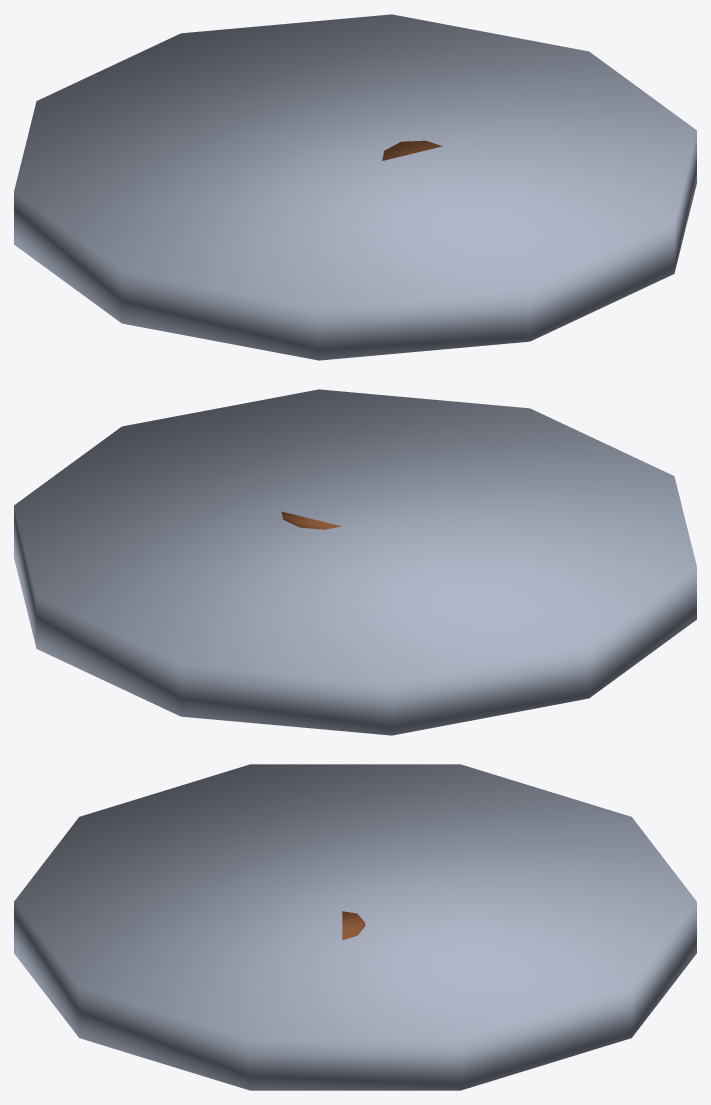
Rendered from copper_coin.glb.
3 renders of one model, top to bottom at view 1: azimuth 30°, elevation 25°; view 2: azimuth 150°, elevation 25°; view 3: azimuth 270°, elevation 25°, orthographic. The views are drawn at different scales.
Parts seen in each view (by area): view 1: copper_coin; view 2: copper_coin; view 3: copper_coin.
Part boxes in pixels (x1,y1,x2,y2): copper_coin: (14,14,696,360); copper_coin: (14,389,696,735); copper_coin: (14,764,696,1090).
Bounding box in the file's own units: 0.2283 × 0.0214 × 0.24.
